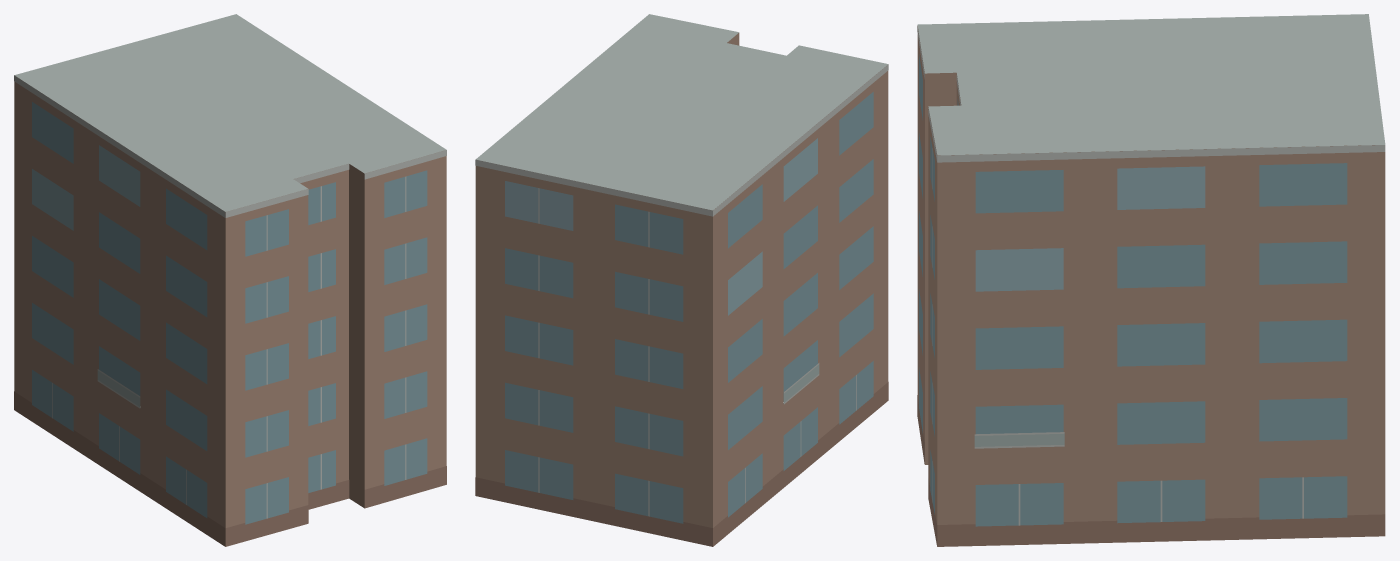
Rendered from survey-upis-32698628.glb.
3 renders of one model, left to right at view 1: azimuth 30°, elevation 25°; view 2: azimuth 150°, elevation 25°; view 3: azimuth 270°, elevation 25°, orthographic. The views are drawn at different scales.
Parts seen in each view (by area): view 1: survey-upis-32698628.tmp; view 2: survey-upis-32698628.tmp; view 3: survey-upis-32698628.tmp.
Boxes of the visible parts, x1,y1,x2,y2 form: survey-upis-32698628.tmp: (14,14,446,546); survey-upis-32698628.tmp: (475,14,888,546); survey-upis-32698628.tmp: (917,14,1385,546).
Size of the model in its own units: 10.36 by 13.35 by 14.47.
